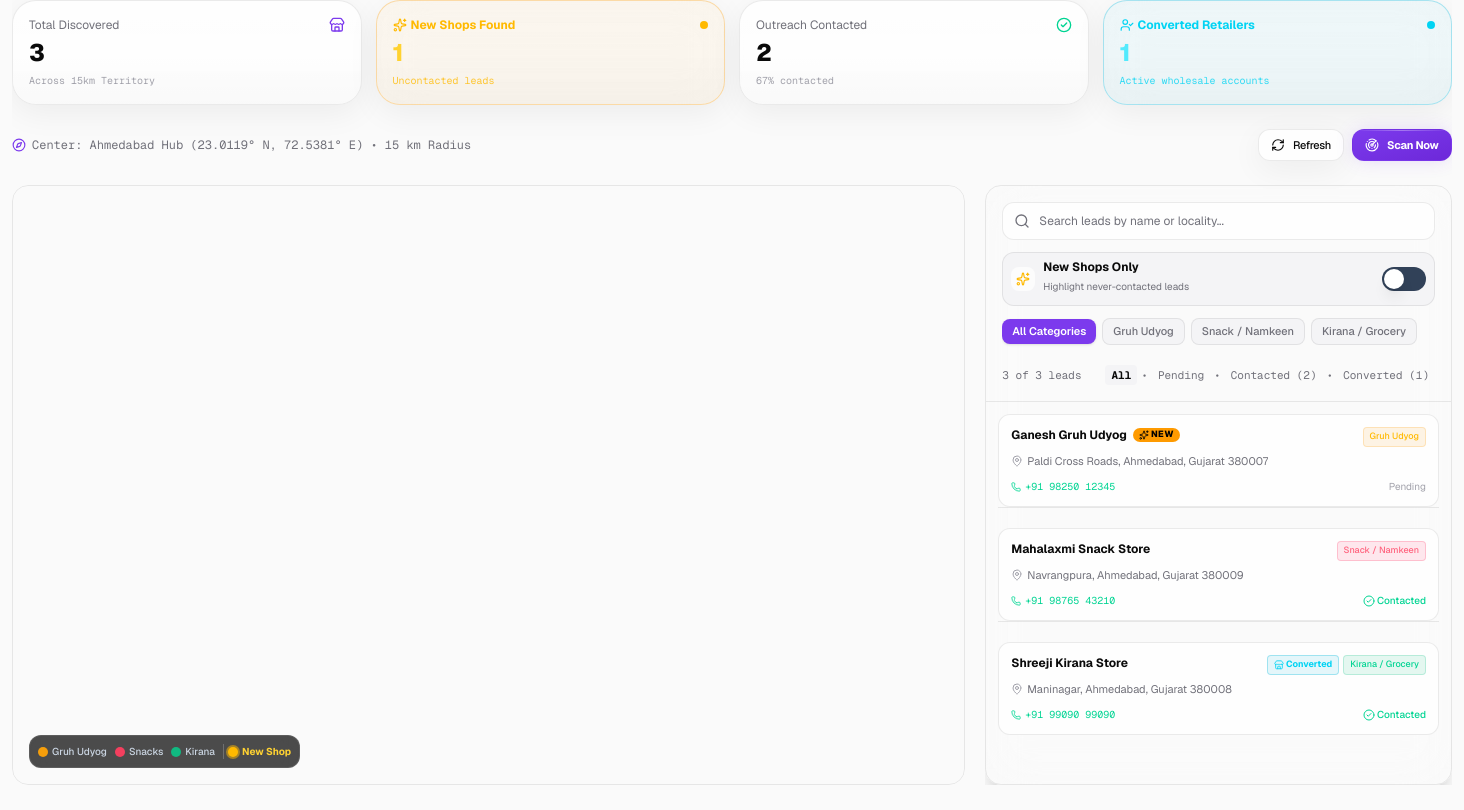
Test: Step 17.2 & 17.3: Retail Lead Discovery Map UI & Contact/Convert › LeadDiscoveryView Master Container › loads telemetry counts, leads list, and allows selecting lead
Expected: the heading "Ganesh Gruh Udyog" is shown, [1011,427,1127,443]
Expected: the text "3" is shown, [29,37,44,68]
// Click card selects lead and opens floating info card
Click the element with test id "lead-card-lead-1" at (1219, 461), box [998,414,1439,508]
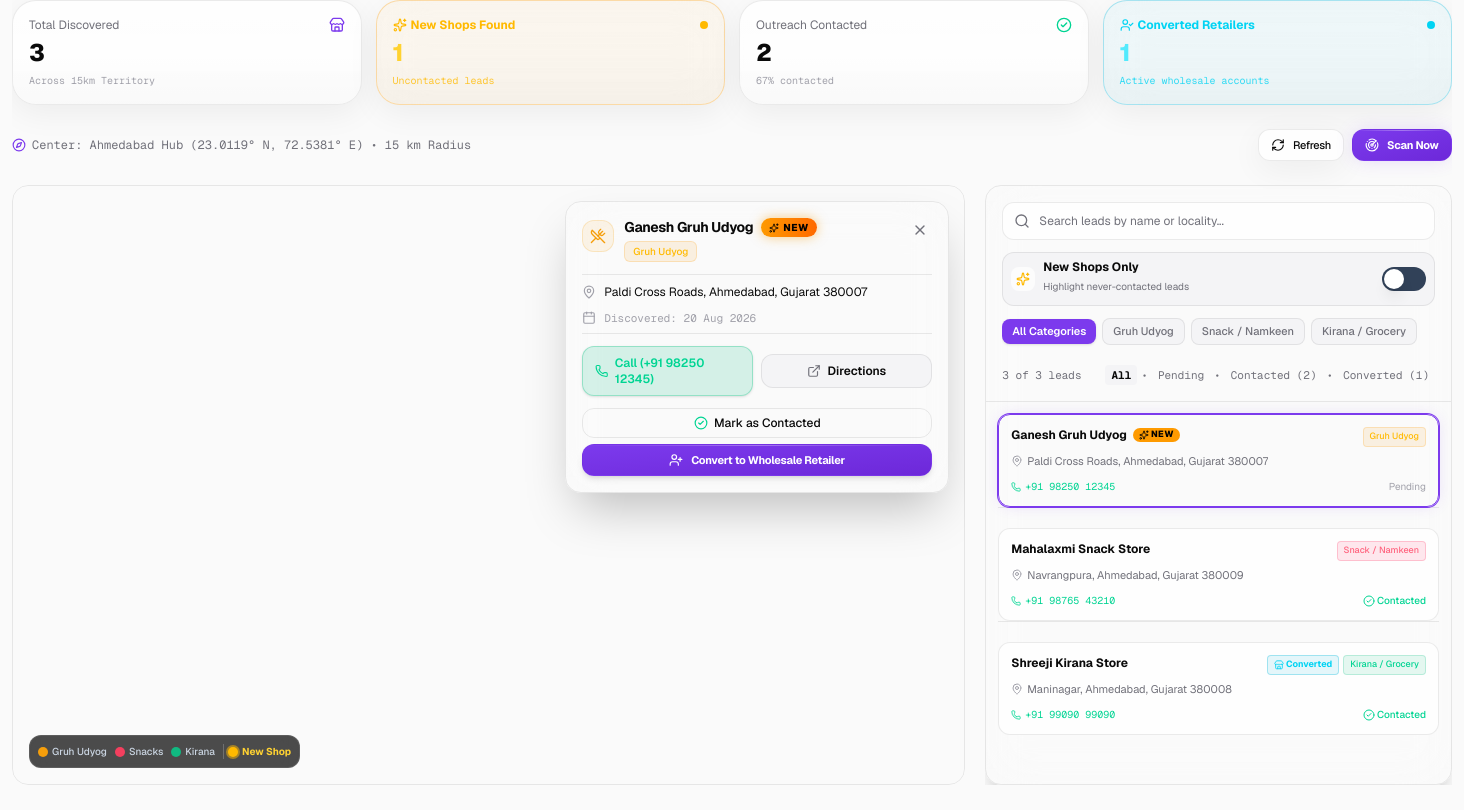
Expected: the element with test id "floating-lead-info" is shown, [565,201,949,493]
